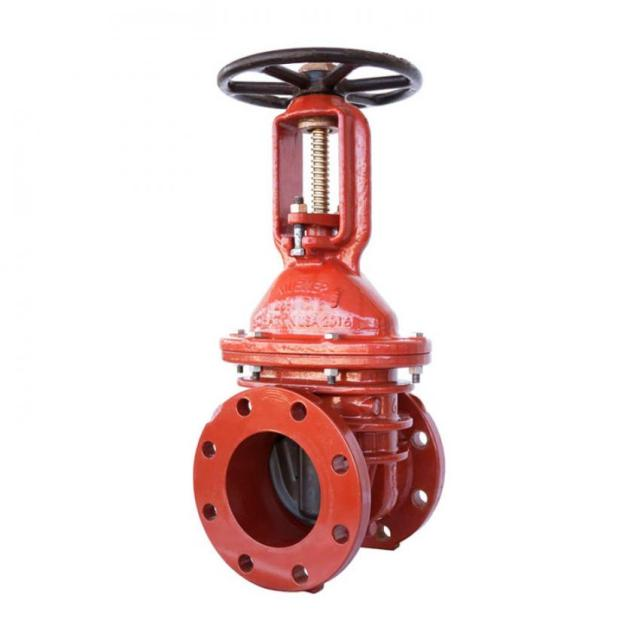Wheel Handle Valve Threaded: (194, 33, 439, 136)
